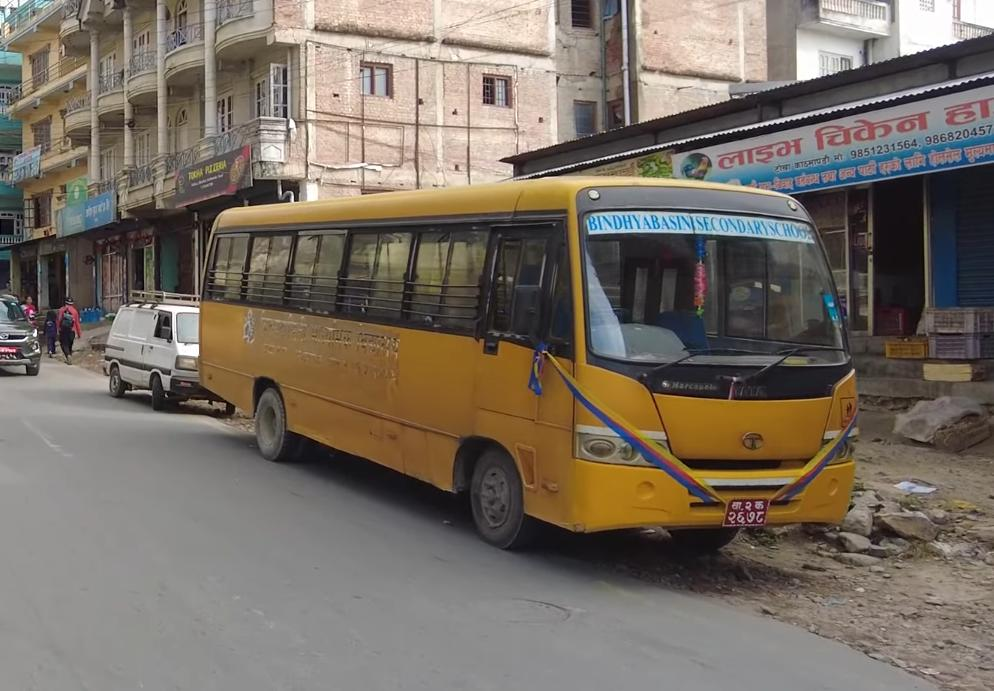car: (0, 289, 46, 380)
school_bus: (195, 171, 865, 558)
van: (103, 288, 239, 420)
